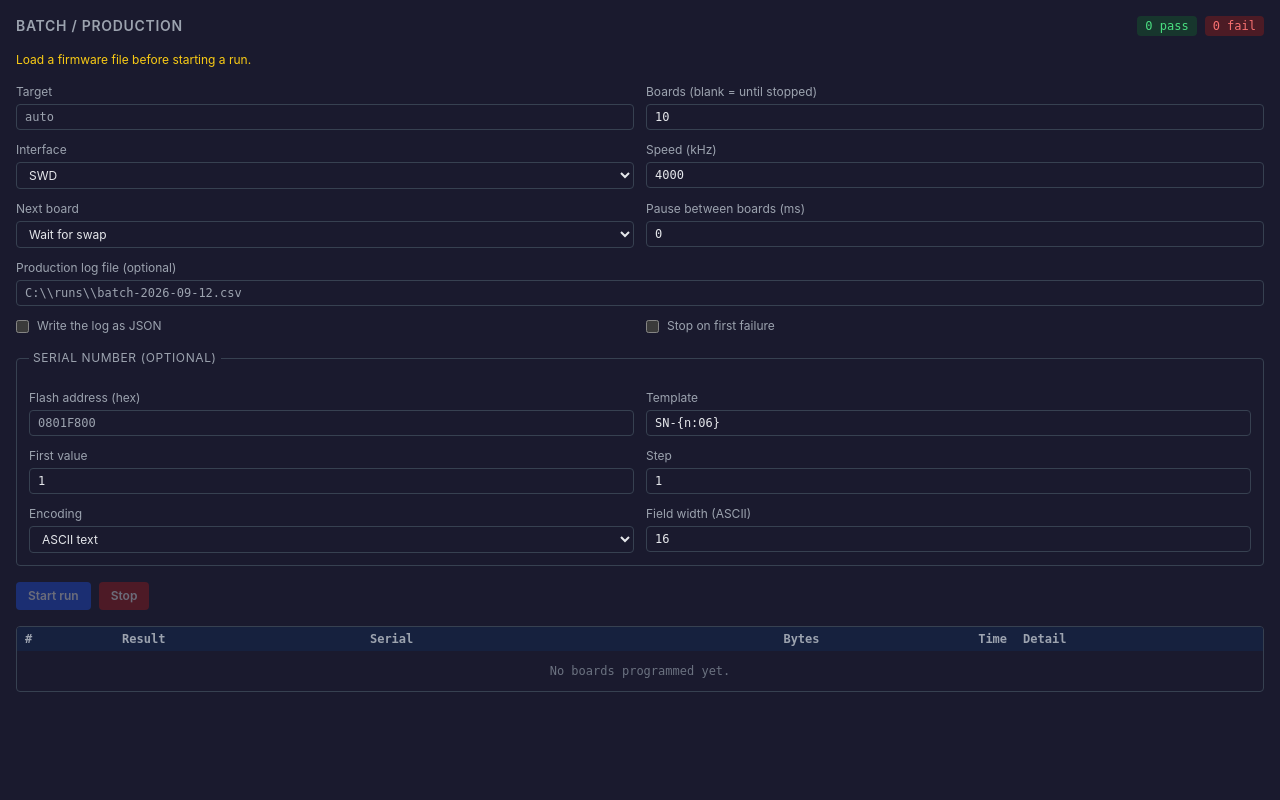
Test: BatchPanel › rejects a serial address that is not hex
The width and height of the screenshot is (1280, 800).
Type "not-hex" into the field named "Serial address". click: coordinates (332, 423)
box: [29,410,634,436]
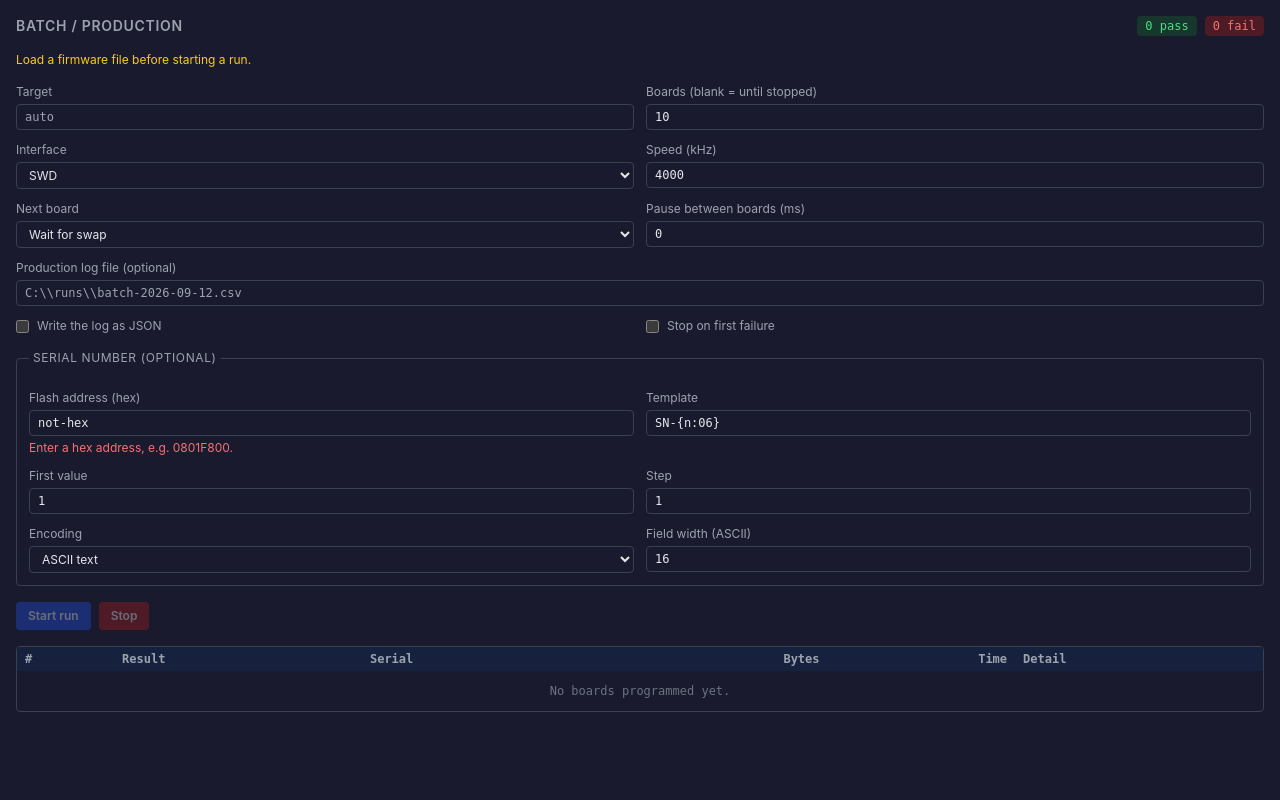
Check: the text "Enter a hex address, e.g. 0801F800." is shown, box [29,440,233,455]
